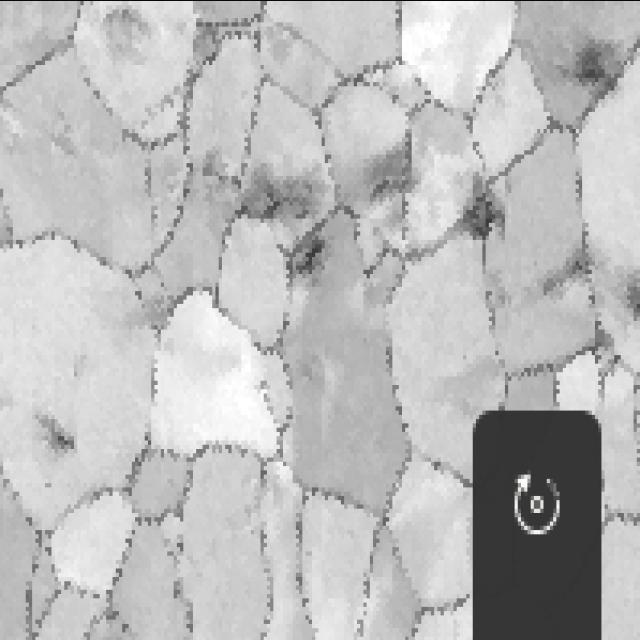good_void: (200, 155, 322, 232), (88, 0, 171, 93), (350, 133, 434, 214), (449, 155, 517, 248), (533, 233, 597, 317), (21, 404, 95, 463), (563, 27, 622, 100), (286, 229, 345, 288), (603, 257, 640, 324), (596, 319, 619, 352)
